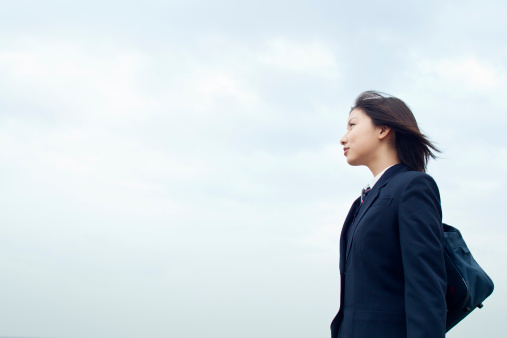em pe: (304, 80, 479, 338)
